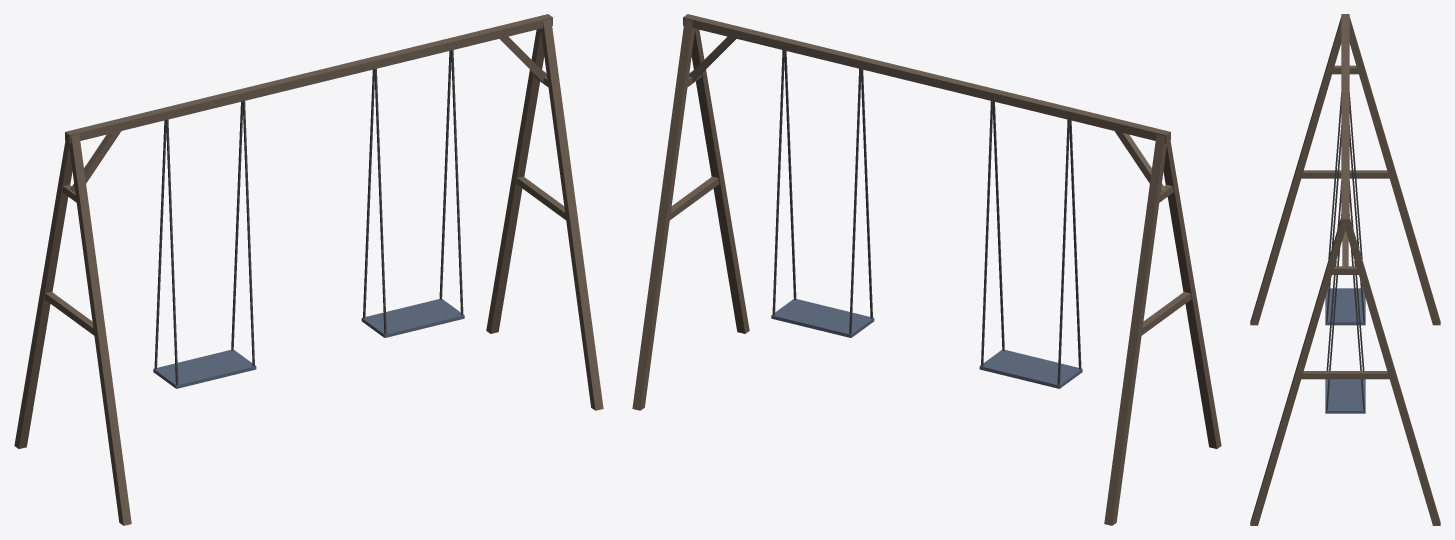
File: Playground_01.fbx
The picture shows the model from 3 angles, left to right: view 1: azimuth 30°, elevation 25°; view 2: azimuth 150°, elevation 25°; view 3: azimuth 270°, elevation 25°; orthographic projection. The views are drawn at different scales.
Parts seen in each view (by area): view 1: Playground_01; view 2: Playground_01; view 3: Playground_01.
Part boxes in pixels (left/top/right/bottom): Playground_01: left=14, top=14, right=603, bottom=525; Playground_01: left=632, top=14, right=1221, bottom=525; Playground_01: left=1250, top=14, right=1440, bottom=525.
Size of the model in its own units: 302 by 211 by 118.
